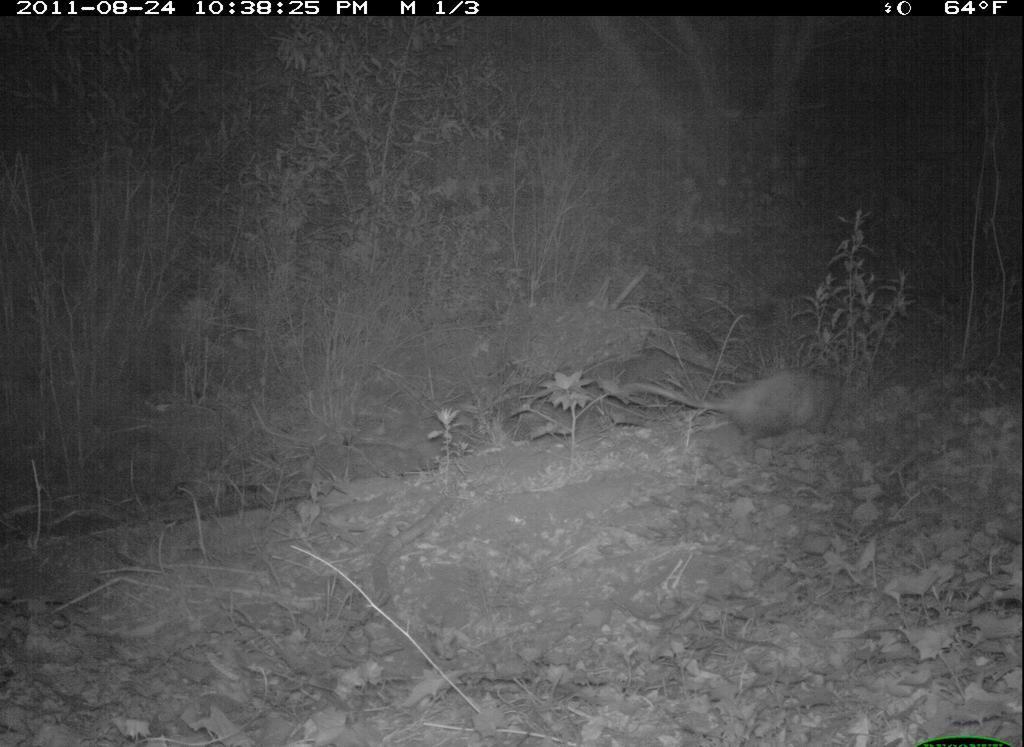opossum: (625, 360, 854, 450)
